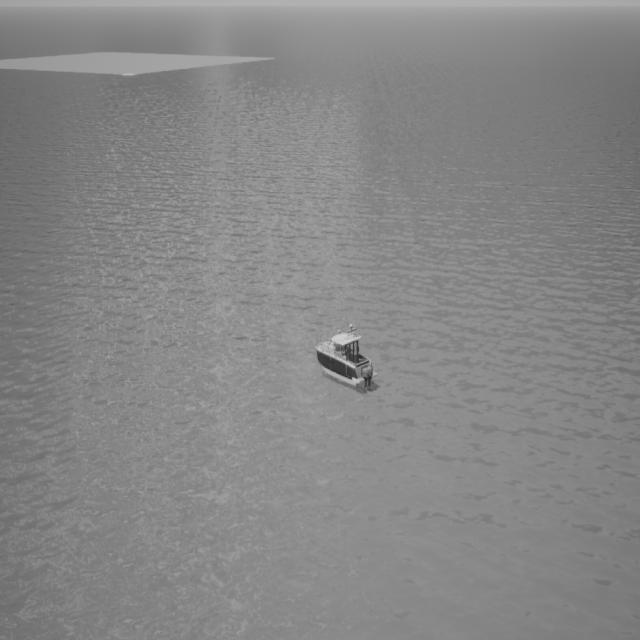ship: (315, 323, 375, 392)
